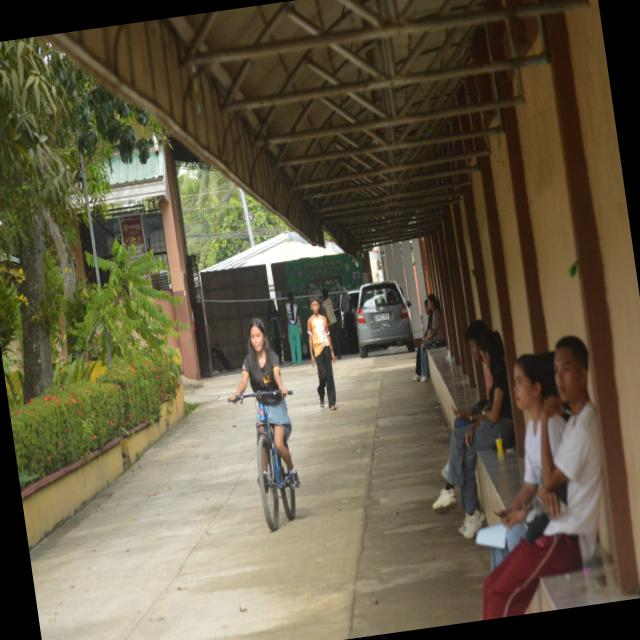person: (483, 337, 602, 619), (433, 331, 514, 539), (491, 354, 554, 569), (229, 319, 300, 487), (308, 296, 336, 410), (322, 288, 341, 359), (286, 293, 302, 365), (267, 300, 282, 361)
